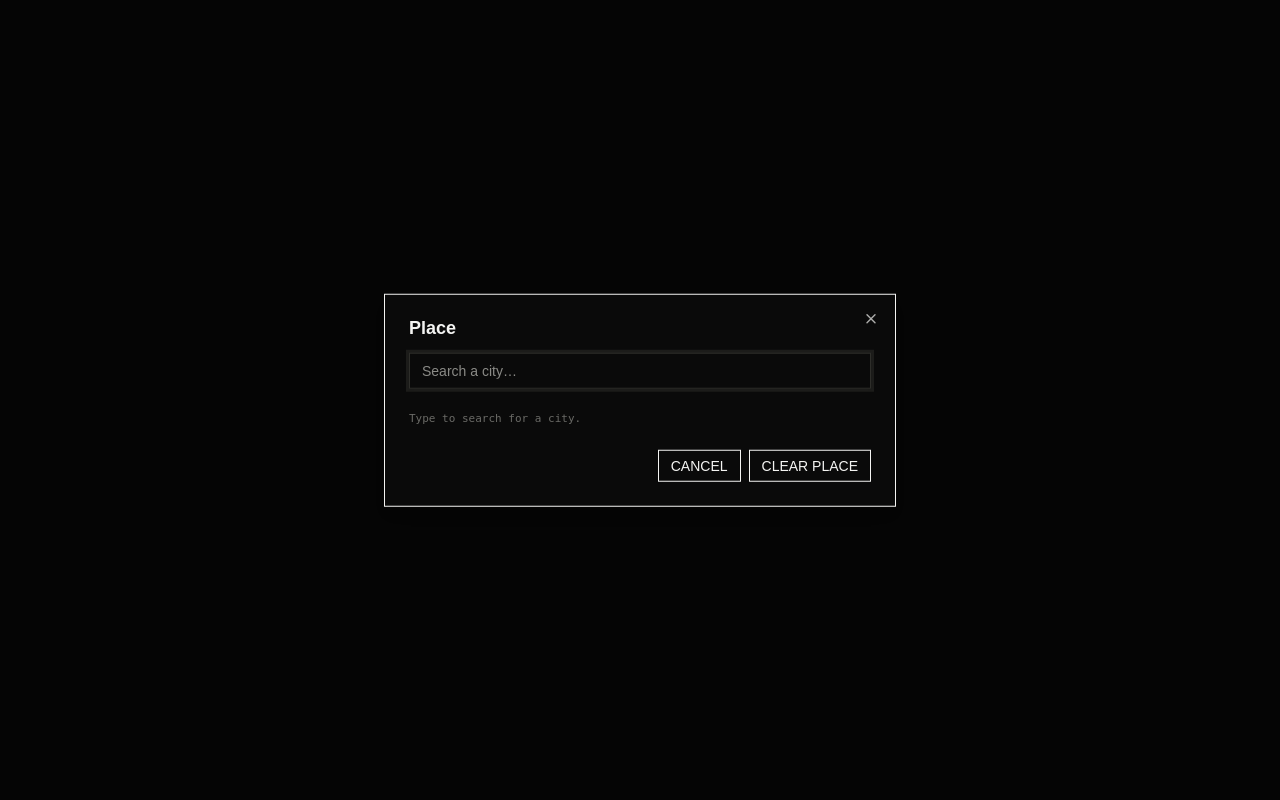
Test: shows an inline error and does not close when set_media_place fails
Step 1. Click the button "CLEAR PLACE" → (810, 465), box [748,449,871,481]
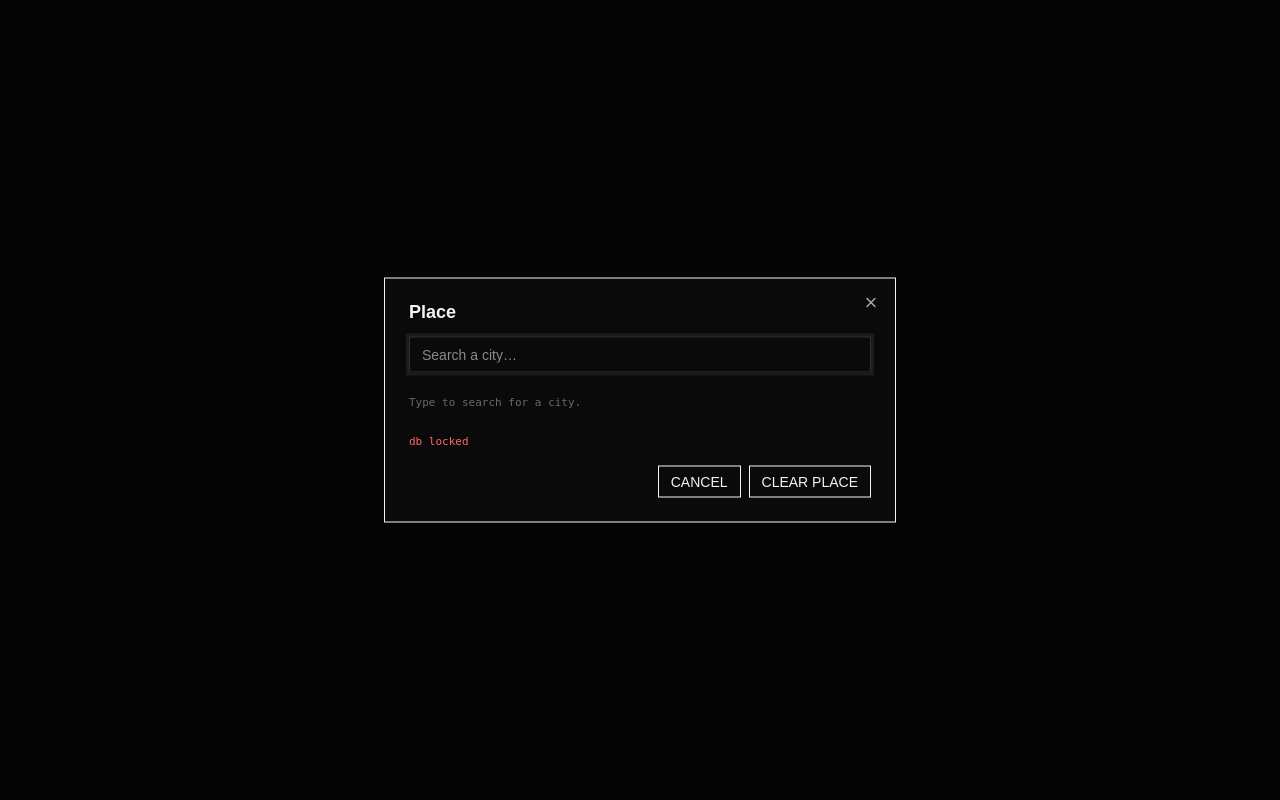
Expected: the text "db locked" is shown, [409,434,469,447]
